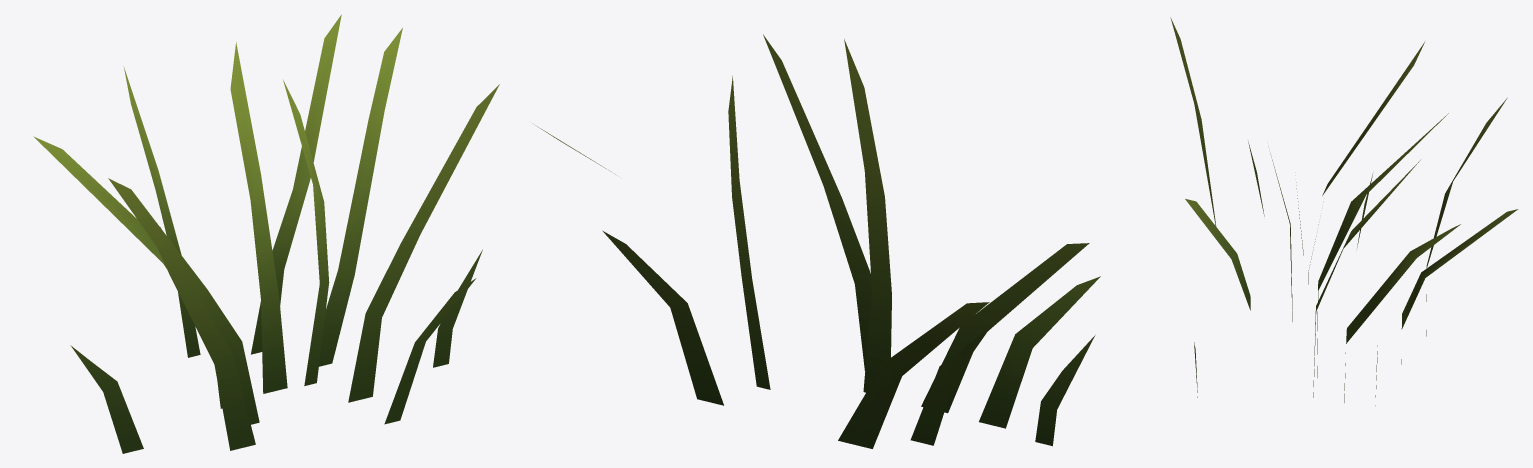
Rendered from decor-vallee-herbe-0.glb.
The picture shows the model from 3 angles, left to right: view 1: azimuth 30°, elevation 25°; view 2: azimuth 150°, elevation 25°; view 3: azimuth 270°, elevation 25°; orthographic projection. The views are drawn at different scales.
Parts seen in each view (by area): view 1: decor:vallee:herbe:0; view 2: decor:vallee:herbe:0; view 3: decor:vallee:herbe:0.
Part boxes in pixels (x1,y1,x2,y2): decor:vallee:herbe:0: (33, 14, 499, 453); decor:vallee:herbe:0: (535, 34, 1100, 448); decor:vallee:herbe:0: (1170, 17, 1518, 405).
Bounding box in the file's own units: 0.6572 × 0.45 × 0.462.
1 material, 1 textured.
